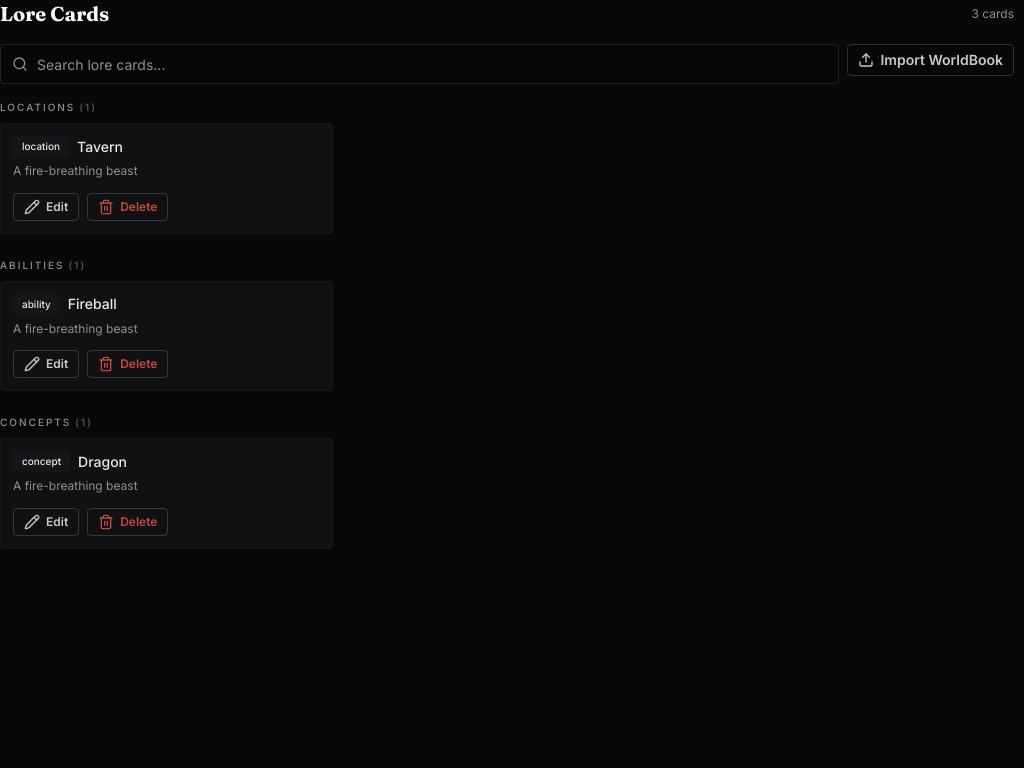
LoreSection › surfaces lore mutation failures
Step 1. Click the button with aria-label "edit dragon" → (46,522), box [13, 508, 79, 536]
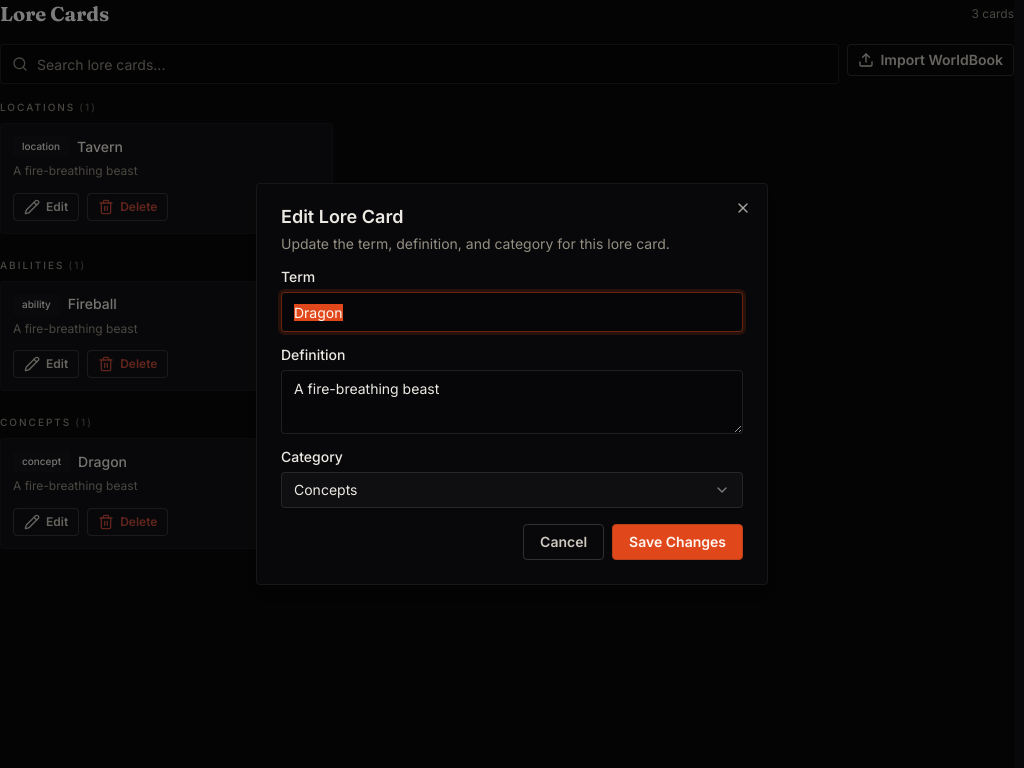
Step 2. Clear the text box labelled "Definition" → (512,402), box [281, 370, 743, 434]
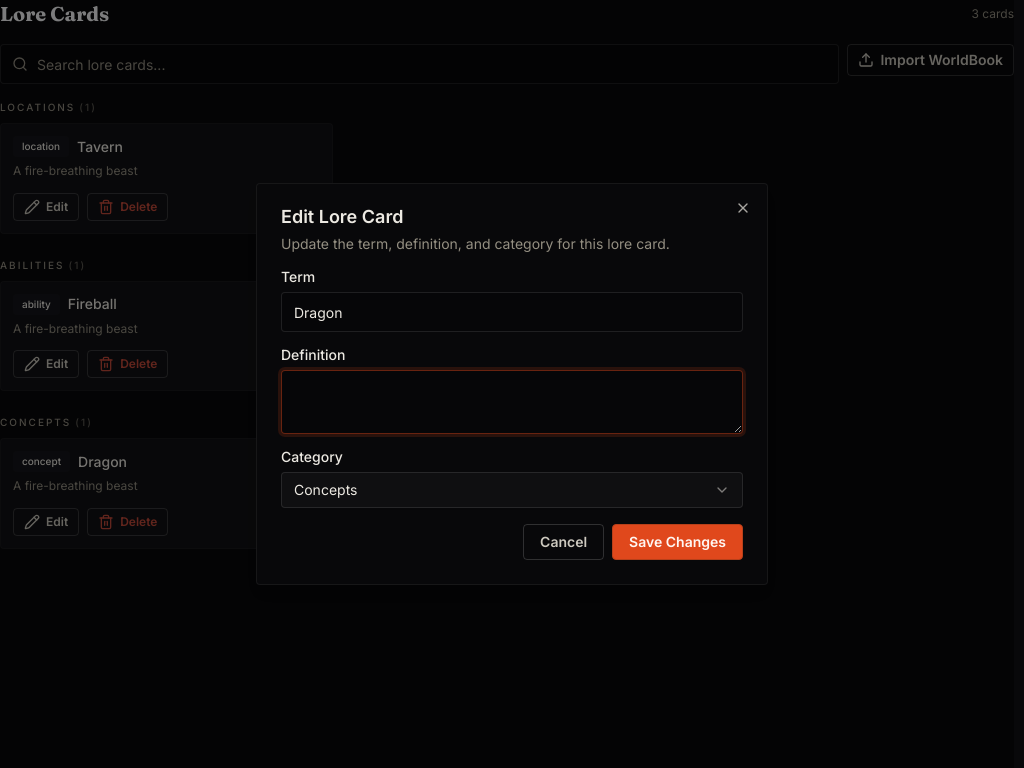
Step 3. Click the button "Save Changes" → (678,542), box [612, 524, 743, 560]
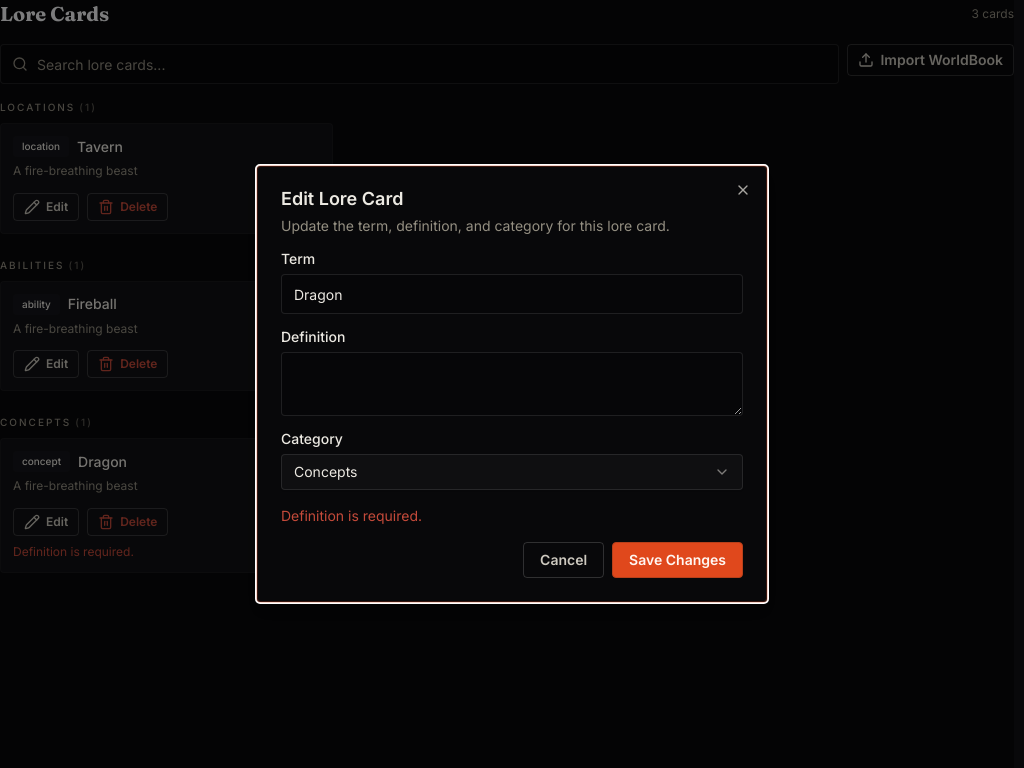
Check: the heading "Edit Lore Card" is shown, box [281, 188, 403, 209]
Check: the button "Save Changes" is enabled, box [612, 542, 743, 578]
Check: the text "Definition is required." is shown, box [281, 507, 422, 524]
